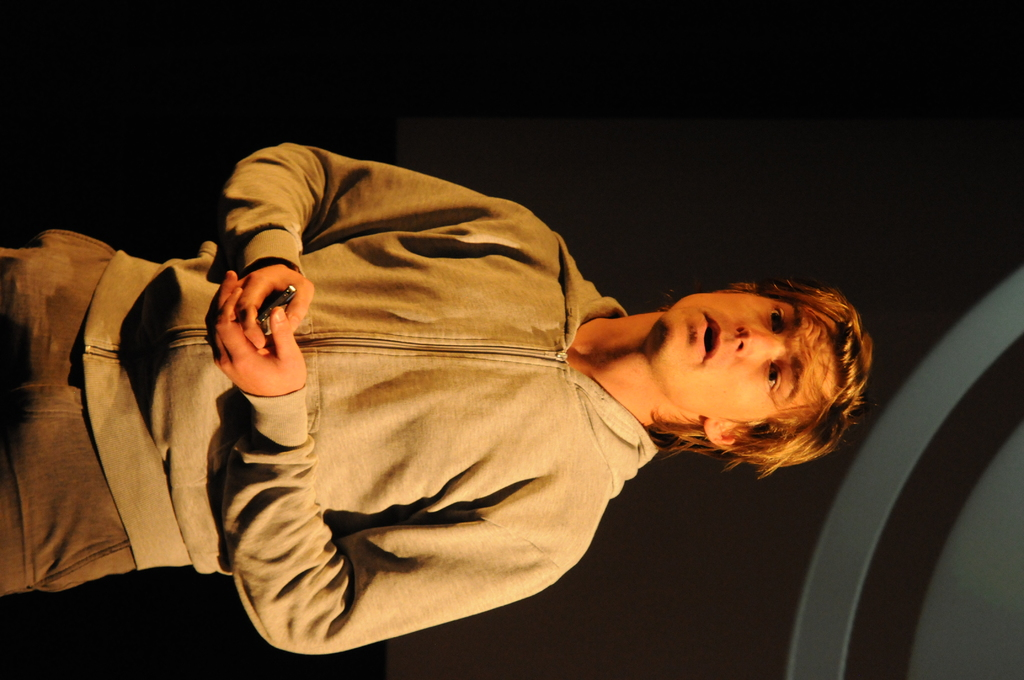Human_hand: (203, 264, 317, 350)
